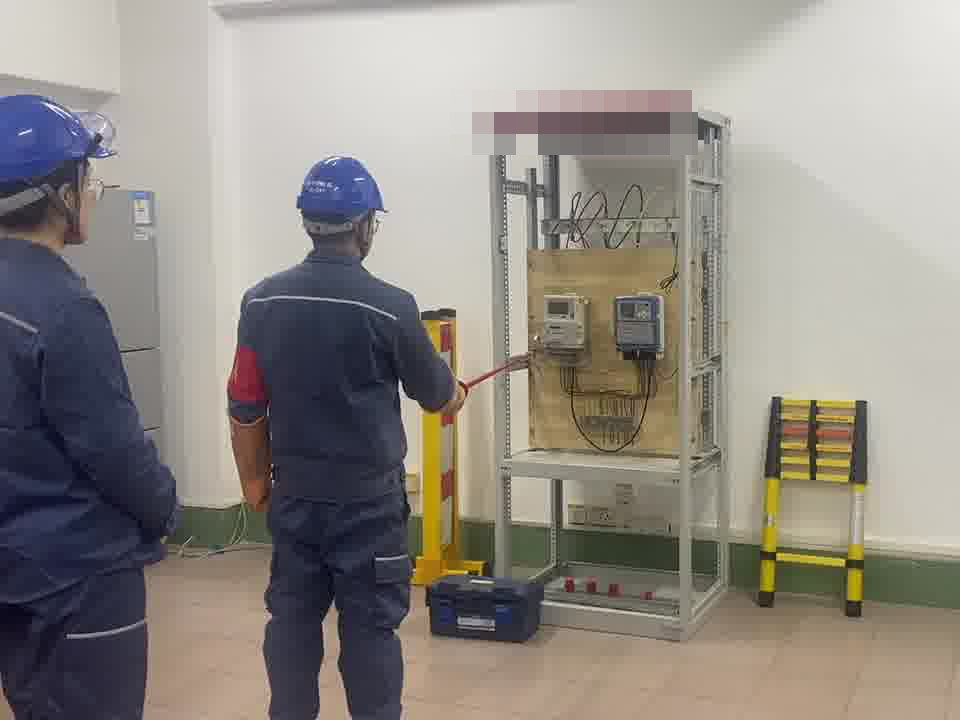badge: (225, 343, 271, 410)
downsuit: (253, 501, 416, 720), (1, 574, 155, 720)
halt: (1, 93, 109, 254), (295, 154, 388, 255)
inear: (47, 167, 85, 231), (356, 217, 374, 252)
longglove: (231, 418, 272, 505)
person: (222, 151, 463, 720), (1, 84, 196, 720)
testrod: (451, 362, 513, 395)
upsuit: (1, 229, 186, 607), (223, 253, 455, 491)
